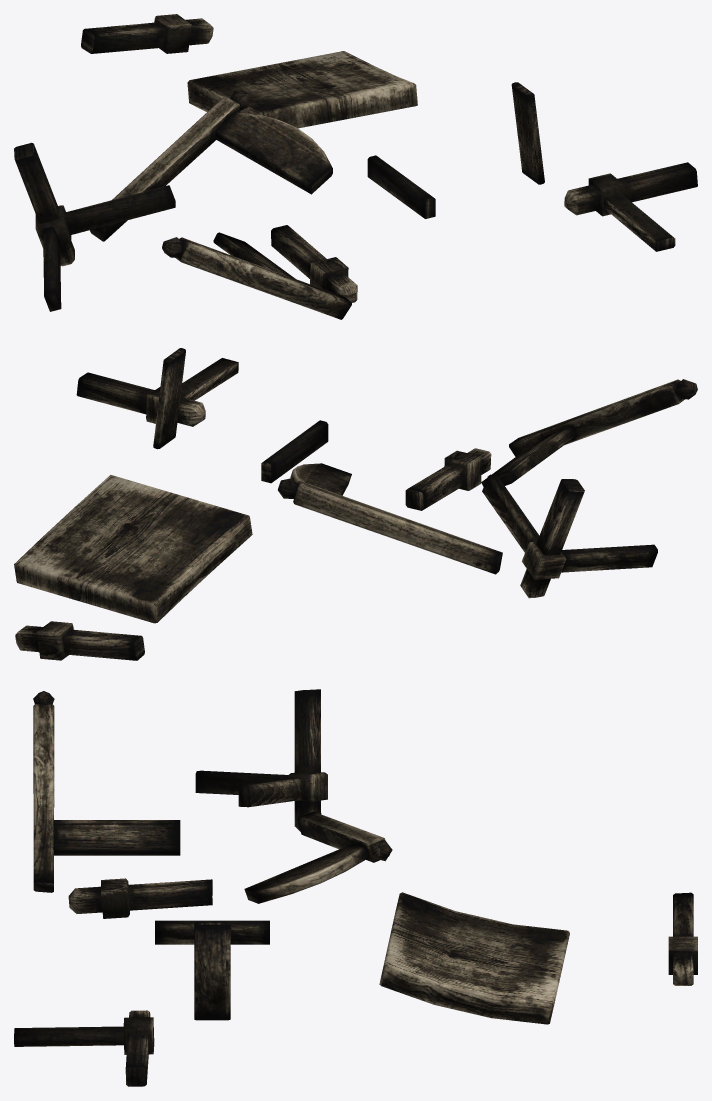
File: chair_wood03_broken.dae
3 renders of one model, top to bottom at view 1: azimuth 30°, elevation 25°; view 2: azimuth 150°, elevation 25°; view 3: azimuth 270°, elevation 25°, orthographic.
Visible parts, largest first — view 1: chair_wood02_007, chair_wood02_015, chair_wood02_011, chair_wood02_017, chair_wood02_009, chair_wood02_001, chair_wood02_004, chair_wood02_016, chair_wood02_010; view 2: chair_wood02_007, chair_wood02_011, chair_wood02_015, chair_wood02_017, chair_wood02_009, chair_wood02_001, chair_wood02_004, chair_wood02_016, chair_wood02_010; view 3: chair_wood02_007, chair_wood02_017, chair_wood02_011, chair_wood02_015, chair_wood02_009, chair_wood02_004, chair_wood02_016, chair_wood02_001, chair_wood02_010.
Part boxes in pixels (left/top/right/bottom): chair_wood02_007: left=187, top=51, right=417, bottom=128; chair_wood02_015: left=90, top=90, right=332, bottom=241; chair_wood02_011: left=14, top=142, right=175, bottom=311; chair_wood02_017: left=162, top=232, right=351, bottom=319; chair_wood02_009: left=564, top=162, right=697, bottom=251; chair_wood02_001: left=81, top=14, right=213, bottom=53; chair_wood02_004: left=271, top=225, right=357, bottom=302; chair_wood02_016: left=511, top=82, right=544, bottom=184; chair_wood02_010: left=367, top=155, right=435, bottom=218; chair_wood02_007: left=14, top=475, right=252, bottom=623; chair_wood02_011: left=482, top=474, right=657, bottom=598; chair_wood02_015: left=278, top=463, right=502, bottom=574; chair_wood02_017: left=481, top=379, right=697, bottom=486; chair_wood02_009: left=76, top=358, right=238, bottom=426; chair_wood02_001: left=15, top=621, right=144, bottom=660; chair_wood02_004: left=405, top=448, right=491, bottom=510; chair_wood02_016: left=153, top=348, right=185, bottom=449; chair_wood02_010: left=261, top=420, right=328, bottom=483; chair_wood02_007: left=379, top=892, right=569, bottom=1024; chair_wood02_017: left=33, top=691, right=180, bottom=892; chair_wood02_011: left=195, top=689, right=327, bottom=831; chair_wood02_015: left=244, top=811, right=392, bottom=903; chair_wood02_009: left=14, top=1010, right=154, bottom=1086; chair_wood02_004: left=68, top=878, right=212, bottom=918; chair_wood02_016: left=194, top=922, right=230, bottom=1020; chair_wood02_001: left=668, top=892, right=697, bottom=985; chair_wood02_010: left=155, top=920, right=269, bottom=944.
Size of the model in its own units: 2.55 by 2.45 by 0.5121.
Materials: 1 (1 with a texture image).
